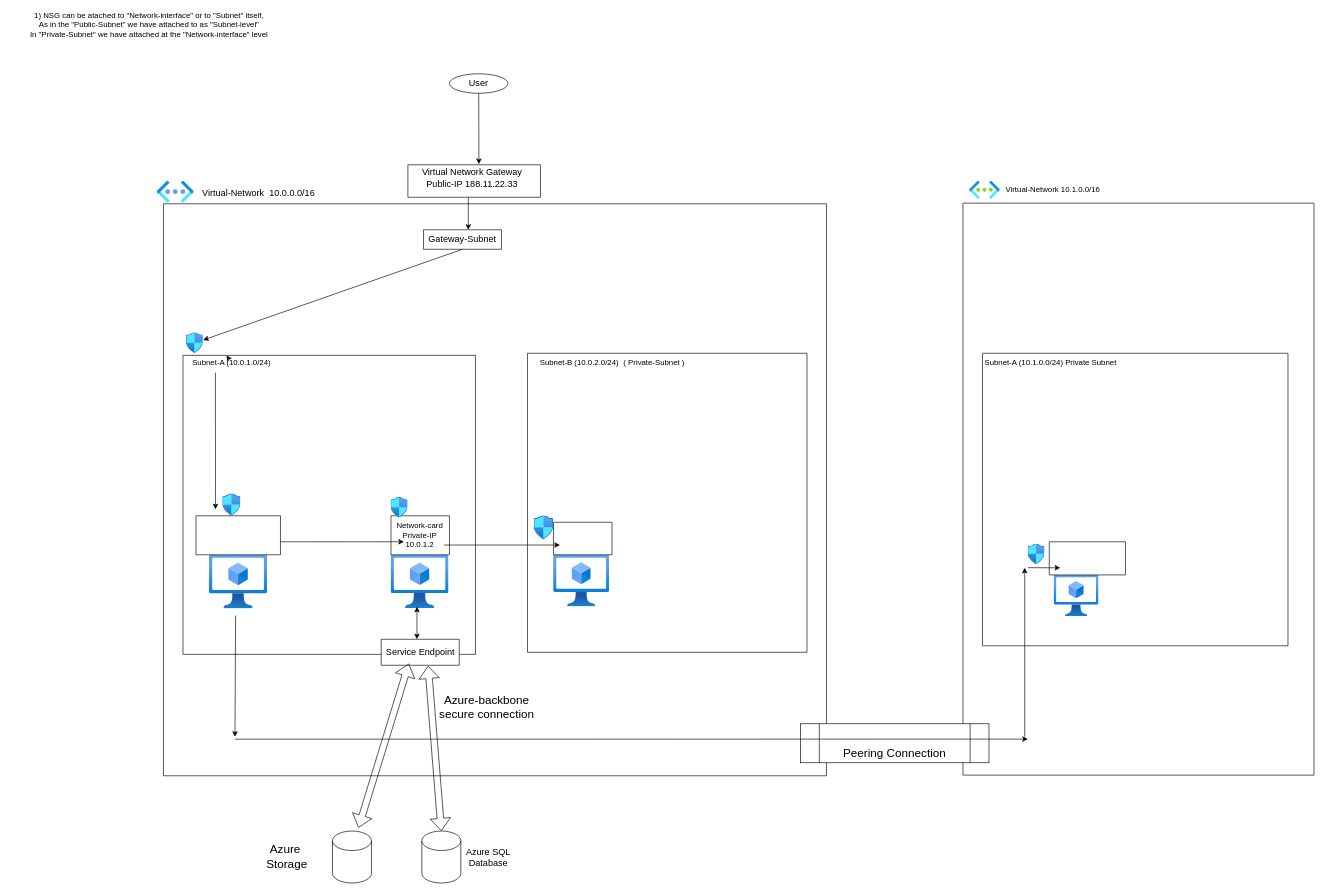
Image size: 1325x894. Some labels were removed from this diagram. The shapes that lost their labels are listed below. From the top down, each one's centre as x and y in pixels, then its label:
(x=237, y=535): Network-card Public-IP- 109.8.9.67 Private-IP 10.0.1.1
(x=582, y=538): Network-card Private-IP 10.0.2.1
(x=1087, y=558): Network-card Private-IP 10.1.0.5
